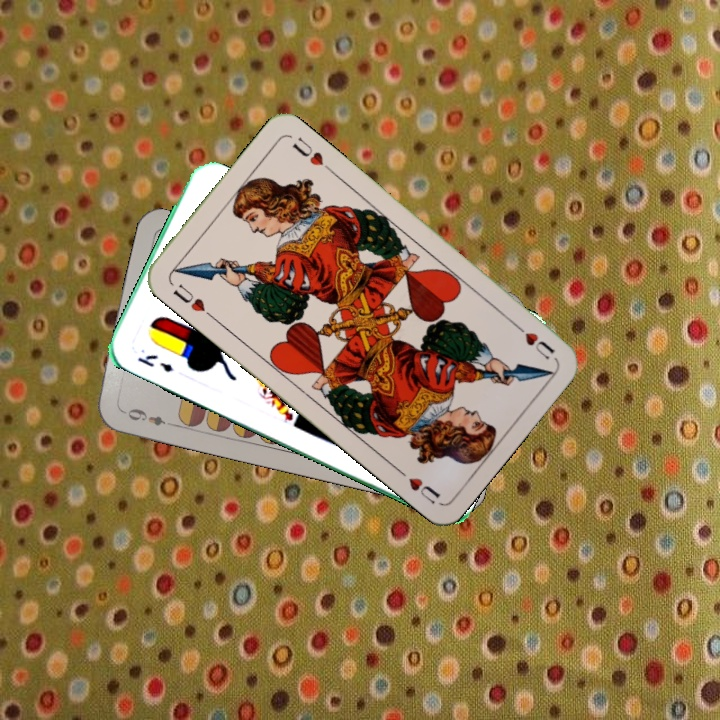E9: (118, 404, 170, 428)
EK: (133, 350, 176, 375)
HU: (509, 318, 558, 363), (169, 280, 216, 321)
